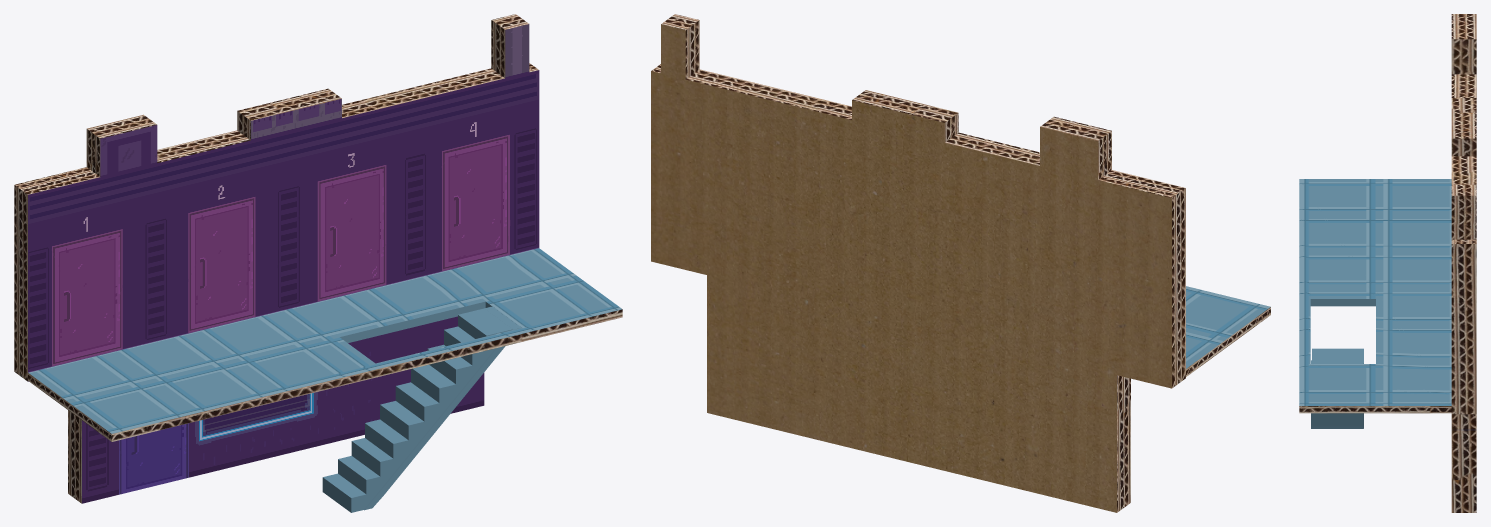
Rendered from building2_3.gltf.
3 renders of one model, left to right at view 1: azimuth 30°, elevation 25°; view 2: azimuth 150°, elevation 25°; view 3: azimuth 270°, elevation 25°, orthographic. The views are drawn at different scales.
Visible parts, largest first — view 1: building2; view 2: building2; view 3: building2.
Boxes of the visible parts, x1,y1,x2,y2 form: building2: (14,14,622,512); building2: (651,14,1270,512); building2: (1299,14,1476,512).
Bounding box in the file's own units: 0.3754 × 0.26 × 0.1239.
